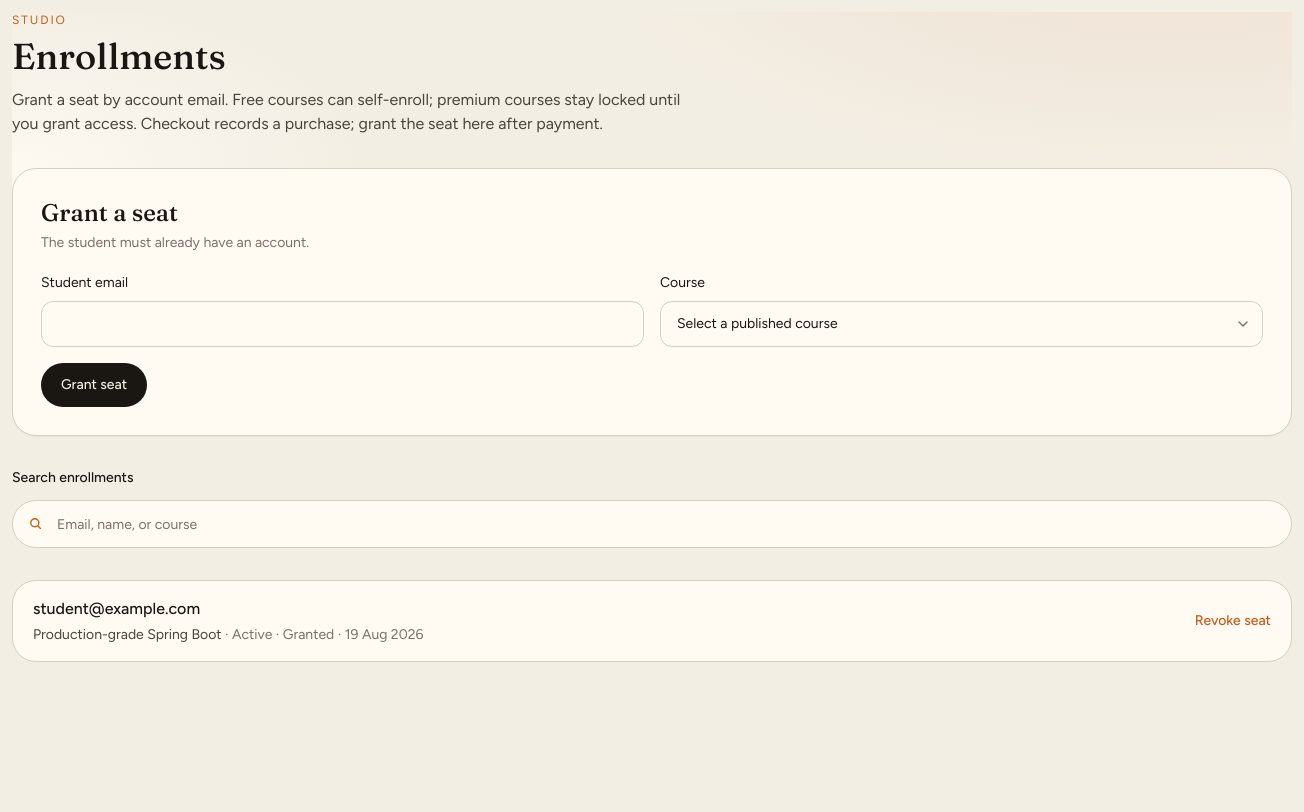
Test case: AdminEnrollmentsPage › lists enrollments and grants a seat
The image size is (1304, 812).
Expected: the text "student@example.com" is shown, [33,599,200,618]
Expected: the button named "Revoke seat for student@example.com in Production-grade Spring Boot" is shown, [1195,611,1271,631]
Type "student@example.com" into the field labelled "Student email" at (342, 324), box [41,301,644,347]
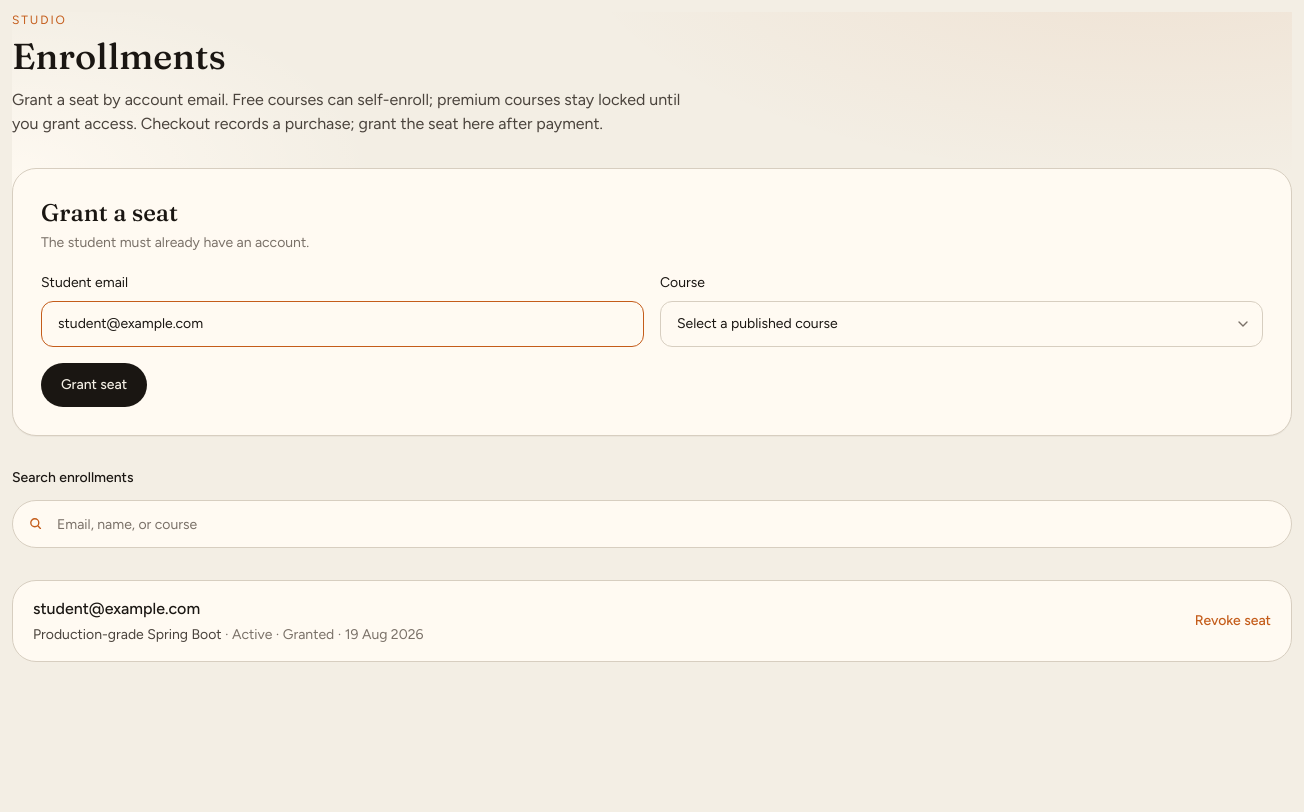
Select "Production-grade Spring Boot · Premium" in the dropdown labelled "Course" at (962, 324), box [660,301,1263,347]
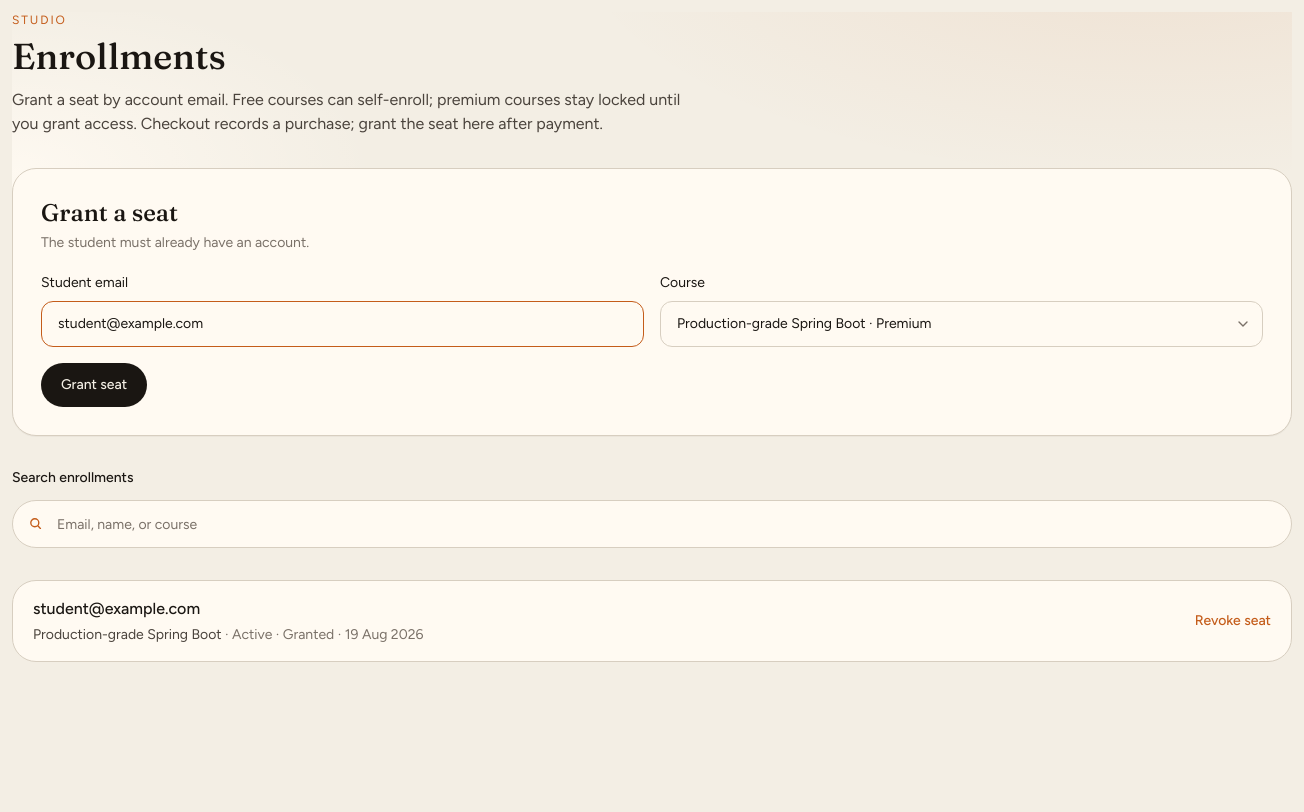
Click the button "Grant seat" at (94, 385), box [41,363,147,407]
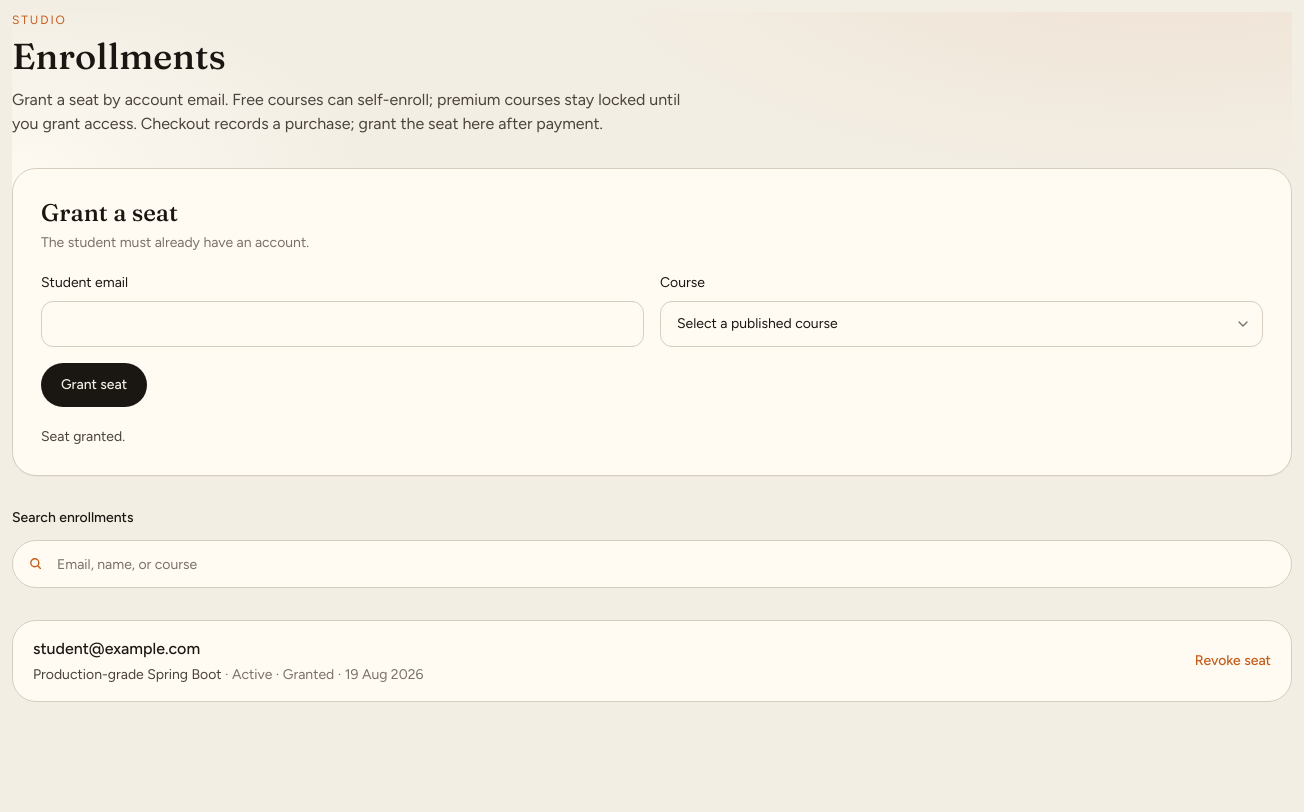
Expected: the text "Seat granted." is shown, [41,428,125,445]
